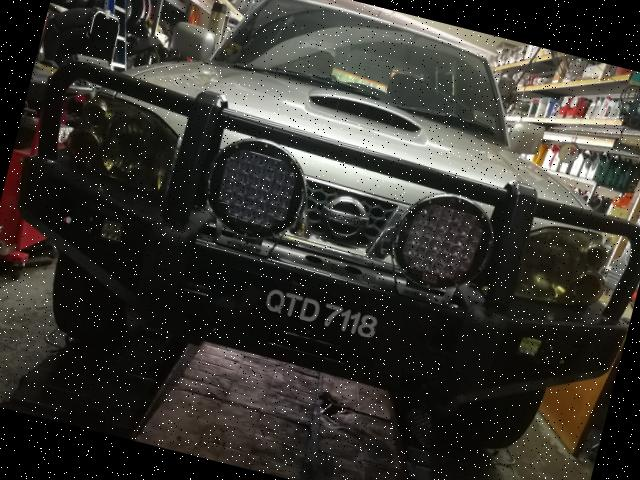License_Plate: (238, 270, 405, 358)
car: (1, 1, 640, 480)
